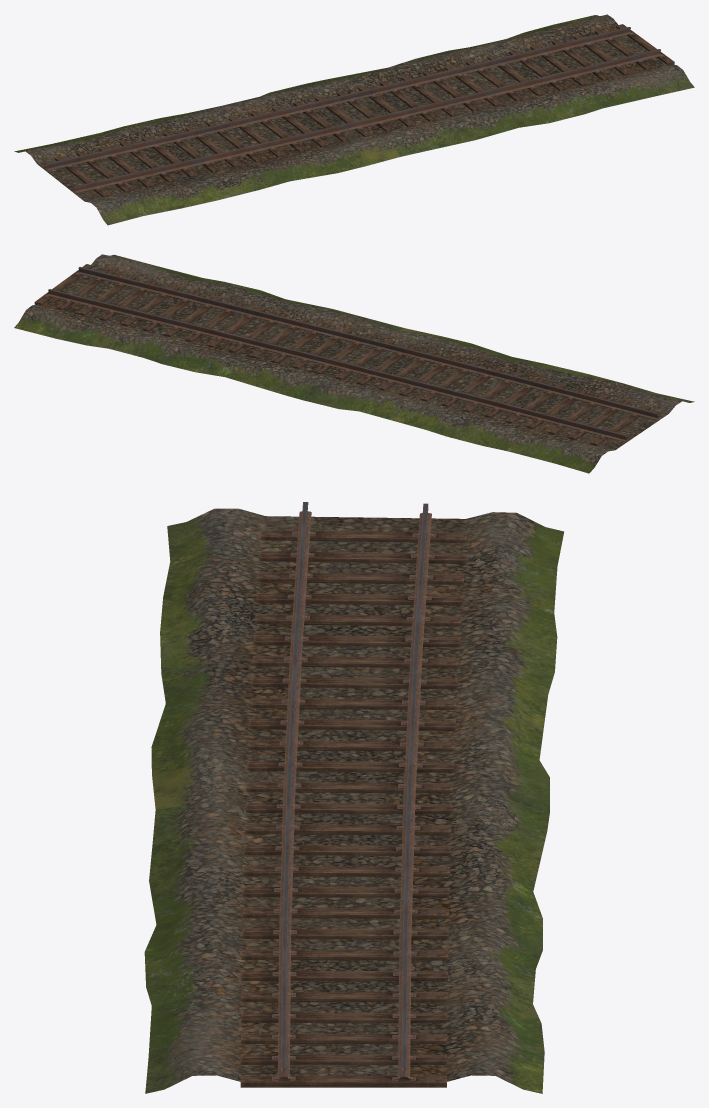
Rendered from Rail2.fbx.
3 renders of one model, top to bottom at view 1: azimuth 30°, elevation 25°; view 2: azimuth 150°, elevation 25°; view 3: azimuth 270°, elevation 25°, orthographic. The views are drawn at different scales.
Visible parts, largest first — view 1: SM_d_114_Rail_02a; view 2: SM_d_114_Rail_02a; view 3: SM_d_114_Rail_02a.
Boxes of the visible parts, bbox=[...] form: SM_d_114_Rail_02a: bbox=[14, 14, 694, 225]; SM_d_114_Rail_02a: bbox=[14, 254, 694, 473]; SM_d_114_Rail_02a: bbox=[144, 502, 563, 1093].
Size of the model in its own units: 2021 by 42.74 by 628.
1 material, 1 textured.
